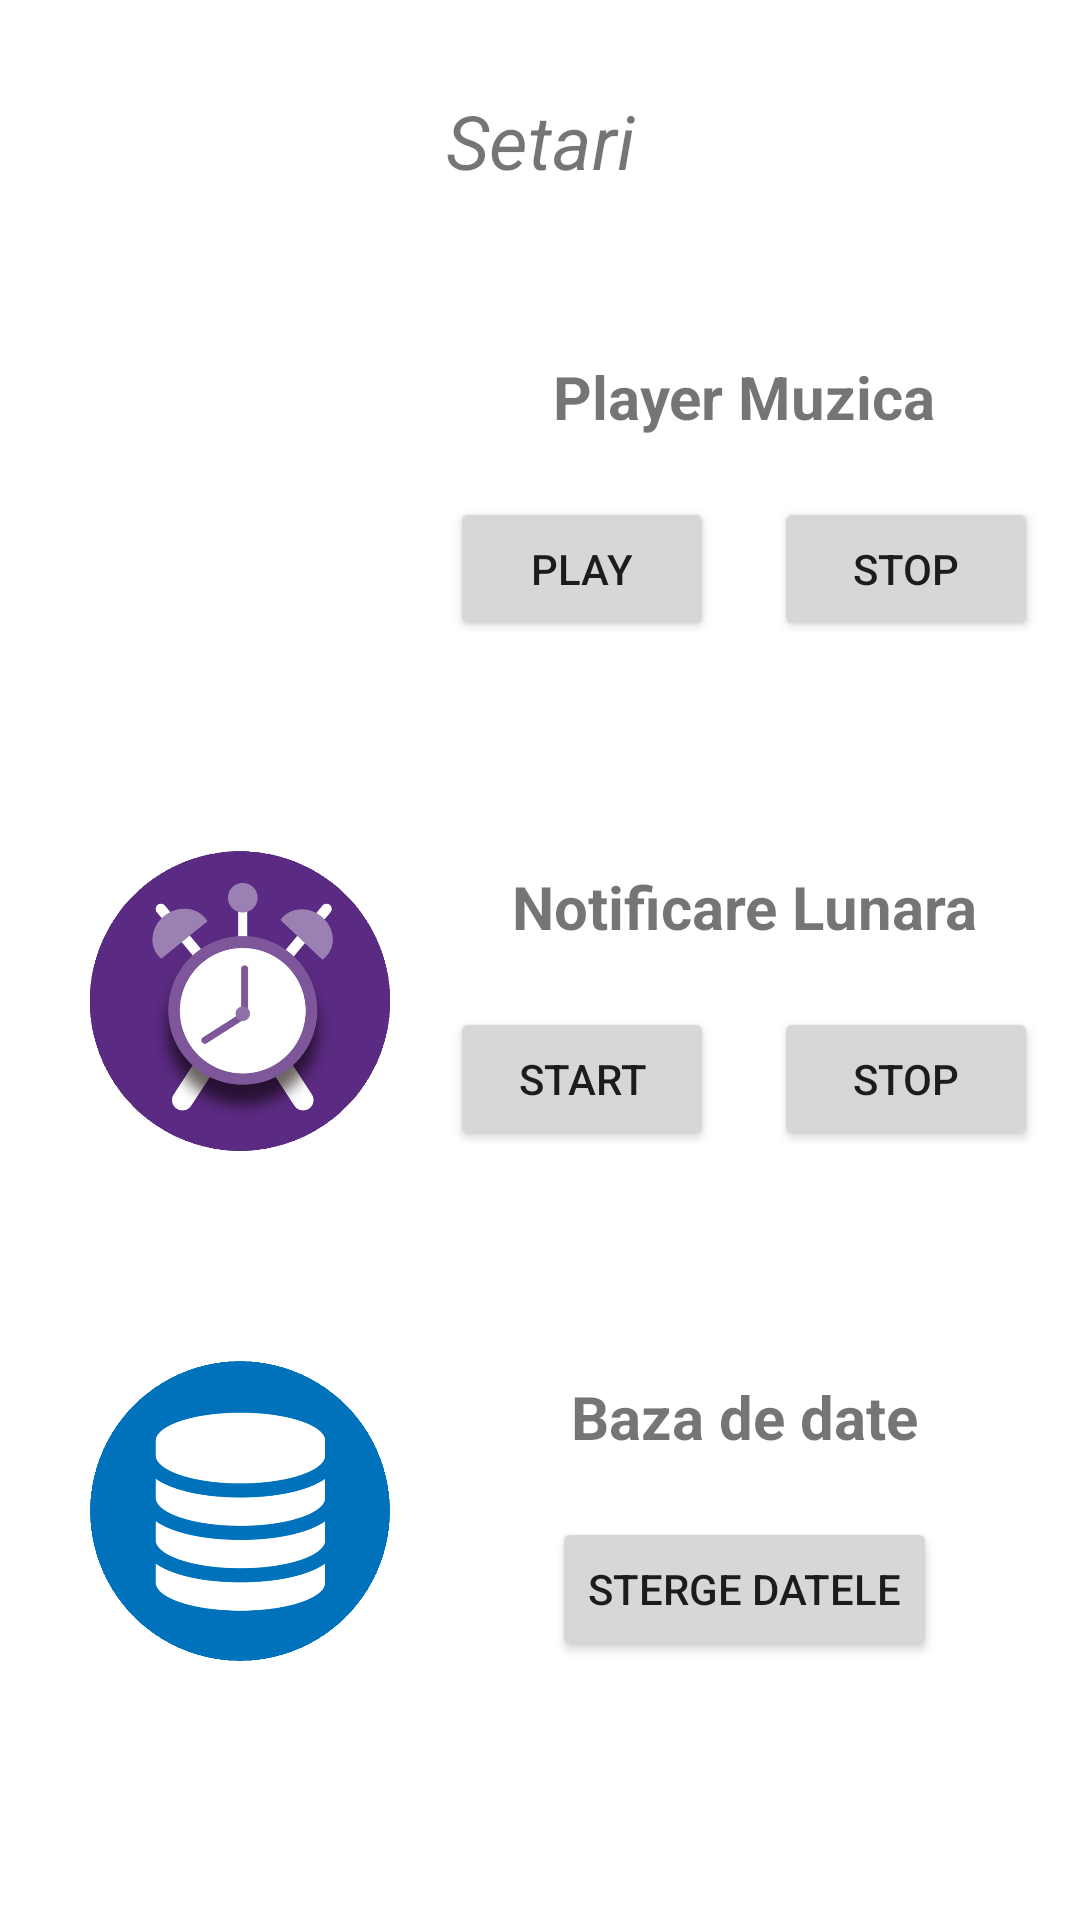

Icons on this 1080x1920 Android screen, each with its box as (x1, y1, x2, y2):
alarm: (90, 851, 390, 1151)
